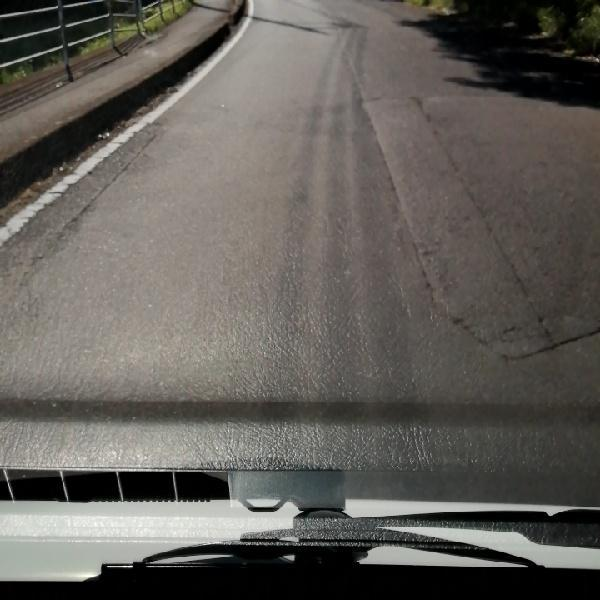D40: (292, 502, 349, 522)
